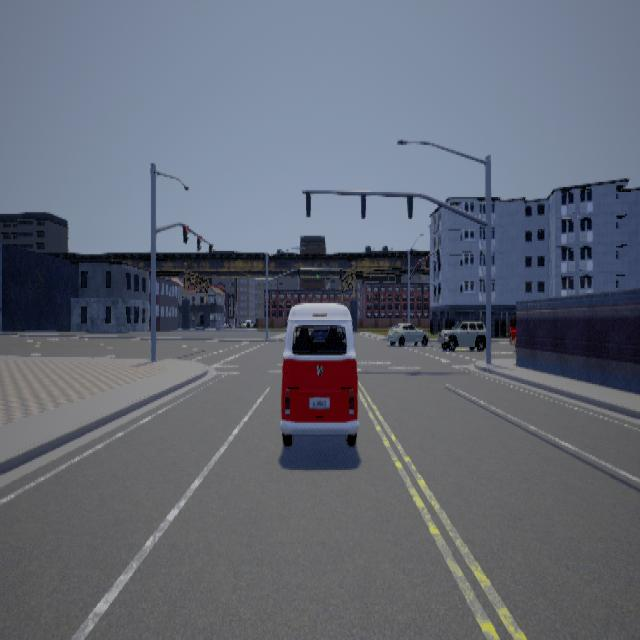red_light: (184, 224, 190, 243), (198, 234, 203, 249), (426, 254, 430, 266), (418, 260, 422, 270)
vehicle: (281, 302, 361, 446), (439, 320, 487, 350), (388, 322, 430, 345)
